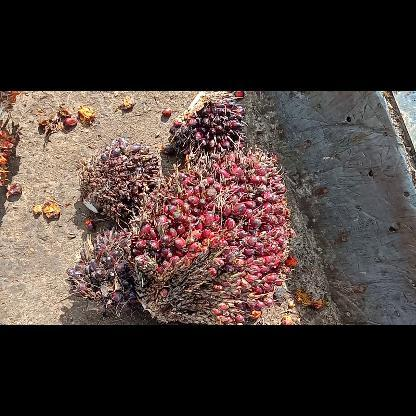TBS abnormal: (76, 142, 158, 220), (68, 226, 136, 320), (170, 90, 244, 156)
TBS masak: (133, 144, 294, 324)
